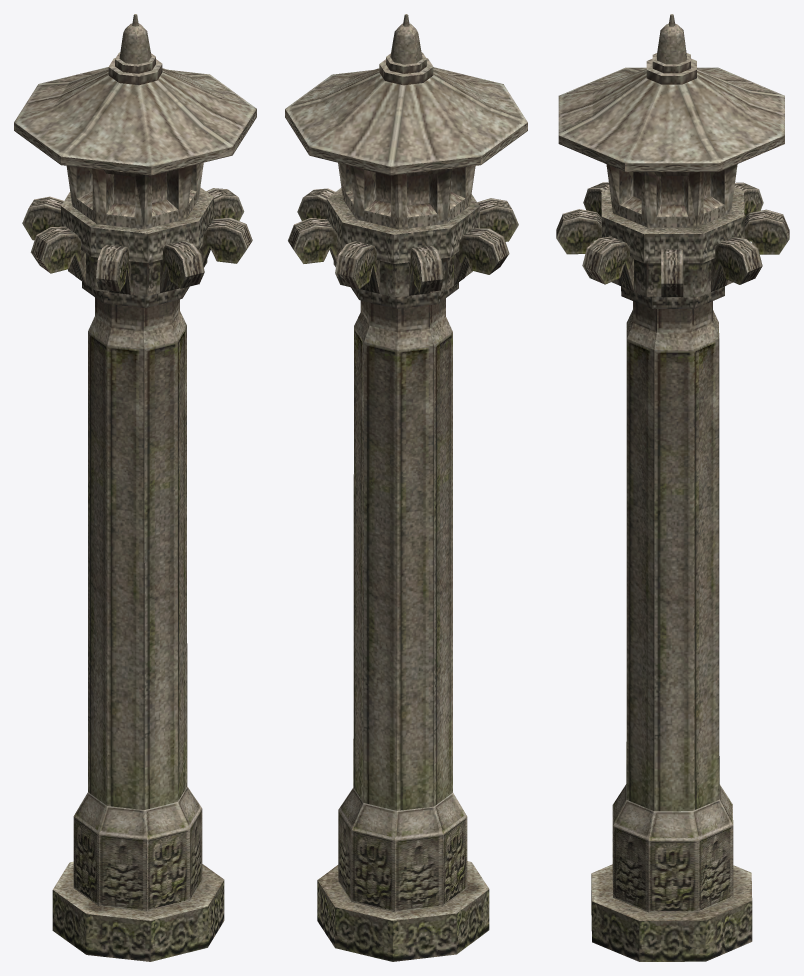
File: c1_018-stonelight.fbx
3 views of the same model, side by side, from view 1: azimuth 30°, elevation 25°; view 2: azimuth 150°, elevation 25°; view 3: azimuth 270°, elevation 25° (orthographic).
Parts seen in each view (by area): view 1: Cone20; view 2: Cone20; view 3: Cone20.
Part boxes in pixels (x1,y1,x2,y2): Cone20: (14, 14, 256, 961); Cone20: (285, 14, 527, 961); Cone20: (556, 14, 789, 961).
Size of the model in its own units: 2.05 by 8.85 by 2.05.
